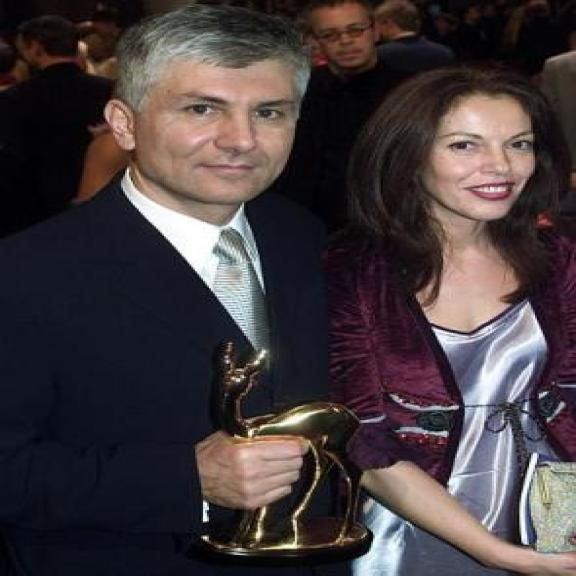face: (109, 40, 306, 210), (410, 90, 534, 236), (306, 2, 390, 72)
